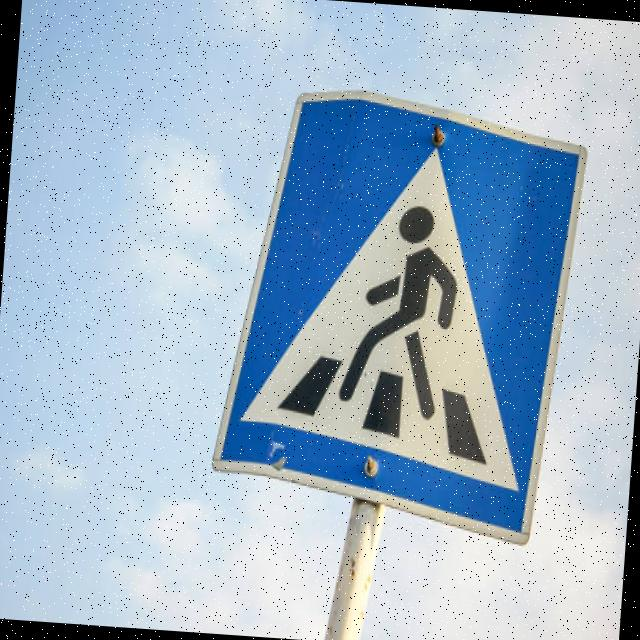crosswalk: (204, 66, 607, 559)
